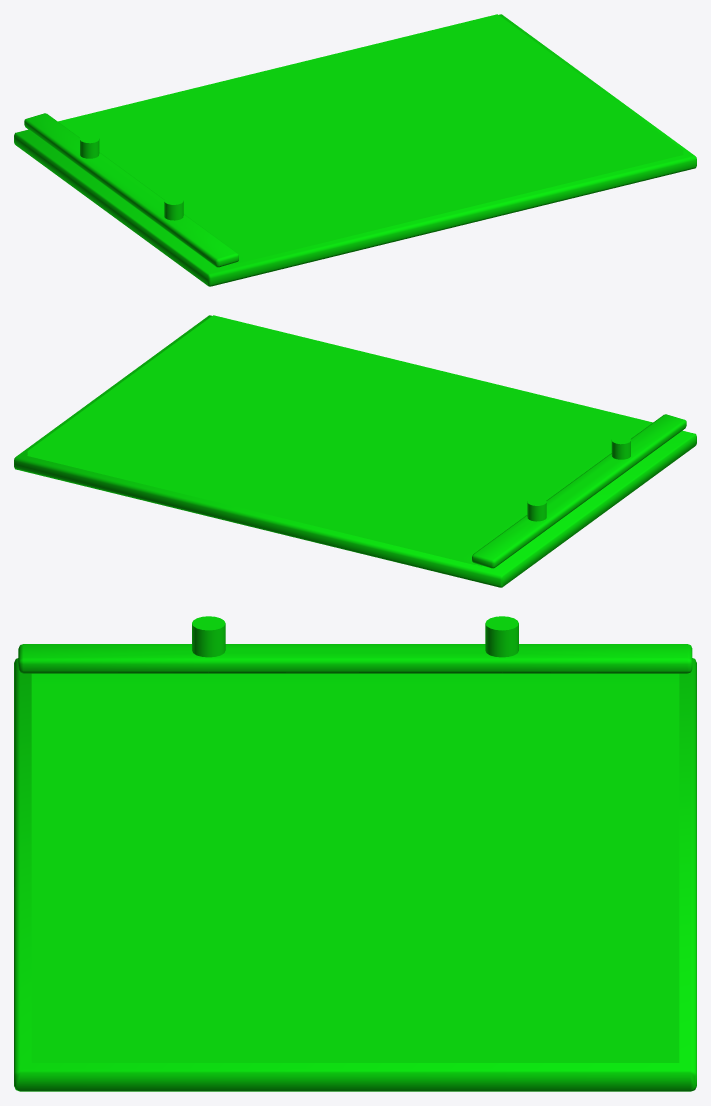
Rendered from Denunciation.fbx.
The picture shows the model from 3 angles, top to bottom: view 1: azimuth 30°, elevation 25°; view 2: azimuth 150°, elevation 25°; view 3: azimuth 270°, elevation 25°; orthographic projection. The views are drawn at different scales.
Parts seen in each view (by area): view 1: Denunciation; view 2: Denunciation; view 3: Denunciation.
Boxes of the visible parts, x1,y1,x2,y2 form: Denunciation: (14,14,696,286); Denunciation: (14,315,696,587); Denunciation: (14,616,696,1091).
Bounding box in the file's own units: 39.23 × 3.2 × 27.33.
